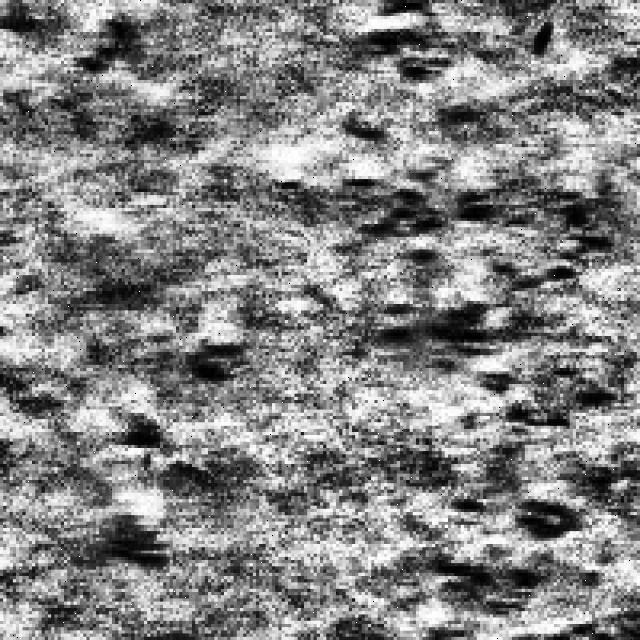Crazing: (339, 118, 634, 618), (86, 330, 244, 582), (336, 0, 477, 102)
